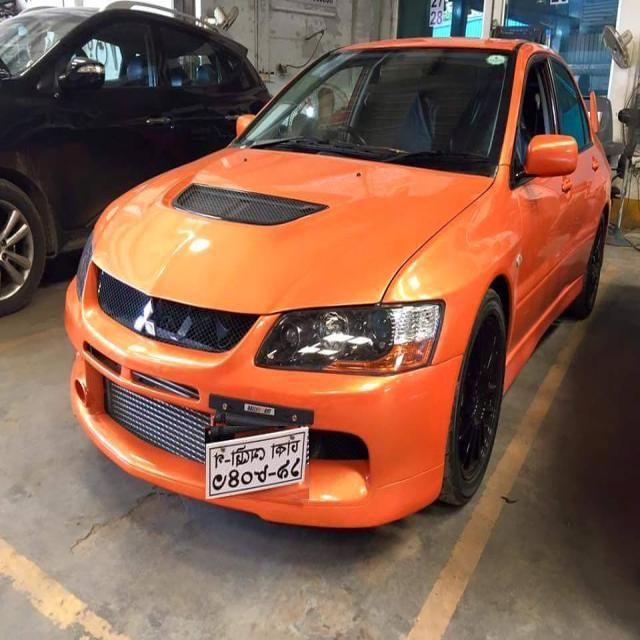numberplate: (205, 426, 309, 499)
